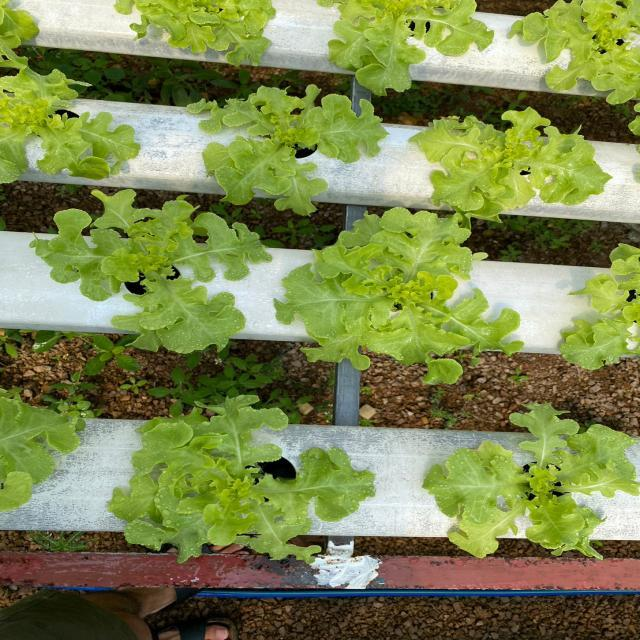Lettuce-Not-Ready-to-Harvest: (110, 396, 374, 559), (279, 209, 519, 382), (35, 190, 268, 352), (426, 405, 639, 555), (0, 1, 138, 181), (195, 86, 384, 211), (418, 109, 608, 217), (330, 0, 490, 91), (520, 0, 640, 102), (120, 0, 274, 62), (561, 249, 640, 368), (0, 391, 78, 508)
